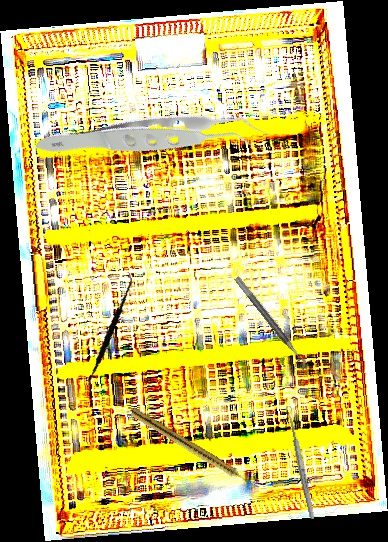Fixation Ring: (226, 275, 310, 376)
Handpiece: (128, 407, 254, 489)
Spatula Surgical: (66, 271, 152, 394)
Surgical Spoon: (285, 405, 316, 520)
Tissue Forceps: (34, 38, 274, 244)
